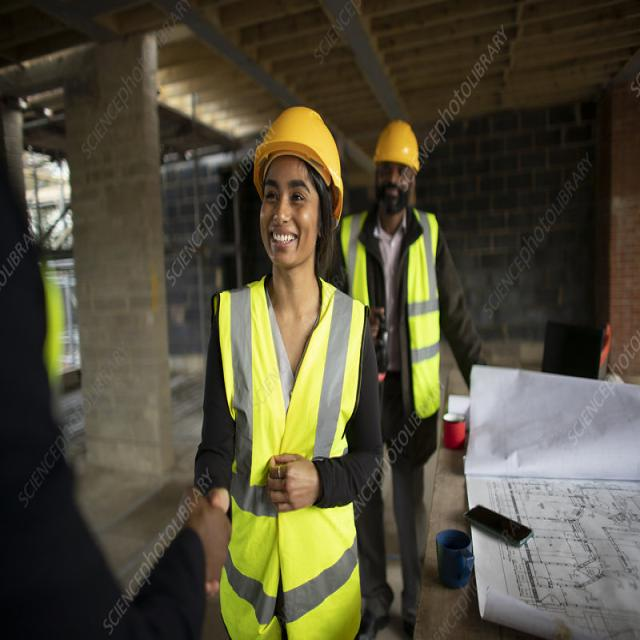helmet: (249, 97, 352, 213), (366, 115, 424, 185)
no-goggles: (256, 174, 328, 222), (374, 162, 422, 191)
vest: (207, 273, 368, 602), (342, 210, 445, 417)
